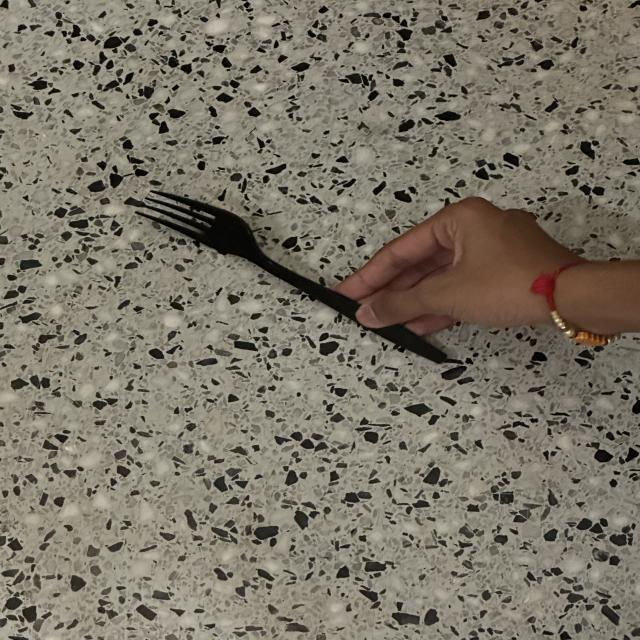fork: (99, 168, 496, 422)
